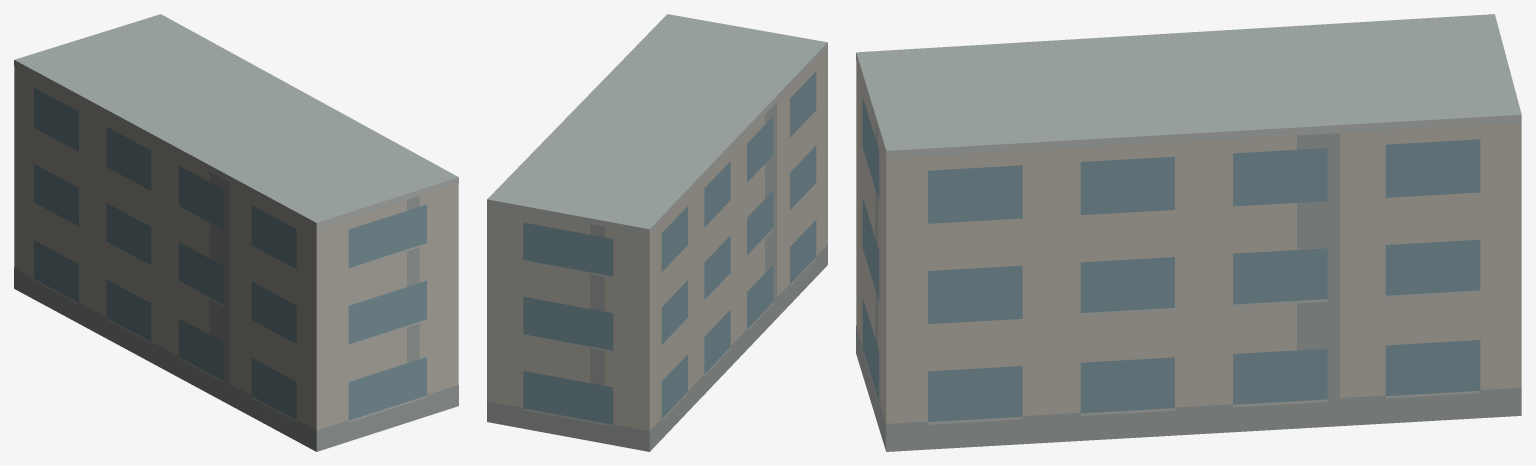
File: survey-upis-32604047.glb
3 views of the same model, side by side, from view 1: azimuth 30°, elevation 25°; view 2: azimuth 150°, elevation 25°; view 3: azimuth 270°, elevation 25° (orthographic). The views are drawn at different scales.
Parts seen in each view (by area): view 1: survey-upis-32604047.tmp; view 2: survey-upis-32604047.tmp; view 3: survey-upis-32604047.tmp.
Boxes of the visible parts, x1,y1,x2,y2 form: survey-upis-32604047.tmp: (14, 14, 458, 451); survey-upis-32604047.tmp: (487, 14, 827, 451); survey-upis-32604047.tmp: (856, 14, 1521, 451).
Size of the model in its own units: 8.93 by 9.15 by 18.35.
